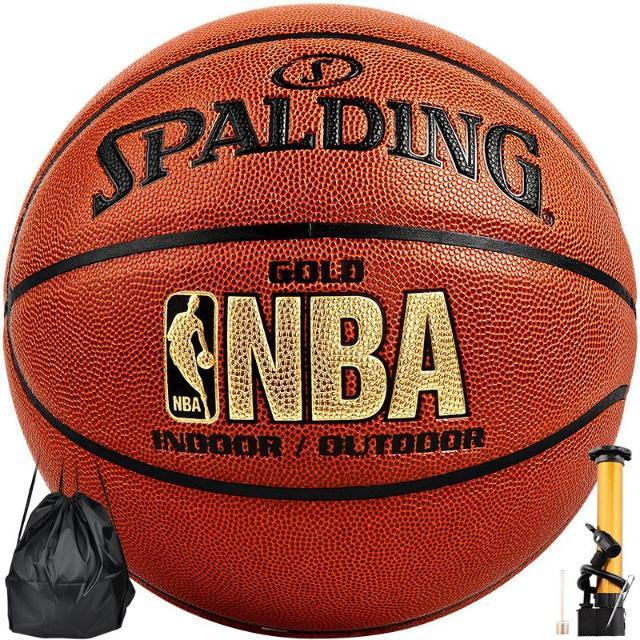basketball: (6, 2, 636, 636)
